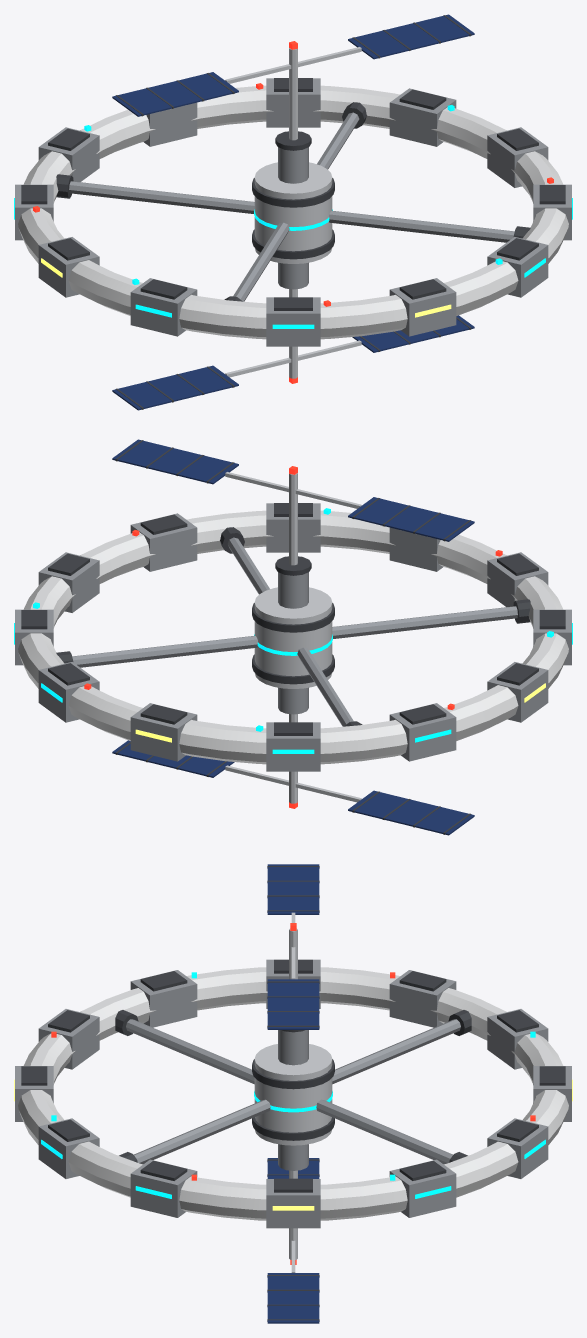
The model's file is FV_Station_Exterior.fbx.
3 renders of one model, top to bottom at view 1: azimuth 30°, elevation 25°; view 2: azimuth 150°, elevation 25°; view 3: azimuth 270°, elevation 25°, orthographic.
Parts seen in each view (by area): view 1: Station_Exterior; view 2: Station_Exterior; view 3: Station_Exterior.
Boxes of the visible parts, x1,y1,x2,y2 form: Station_Exterior: (14,14,572,410); Station_Exterior: (14,439,572,835); Station_Exterior: (14,864,572,1323).
Size of the model in its own units: 43.14 by 28.9 by 43.14.
